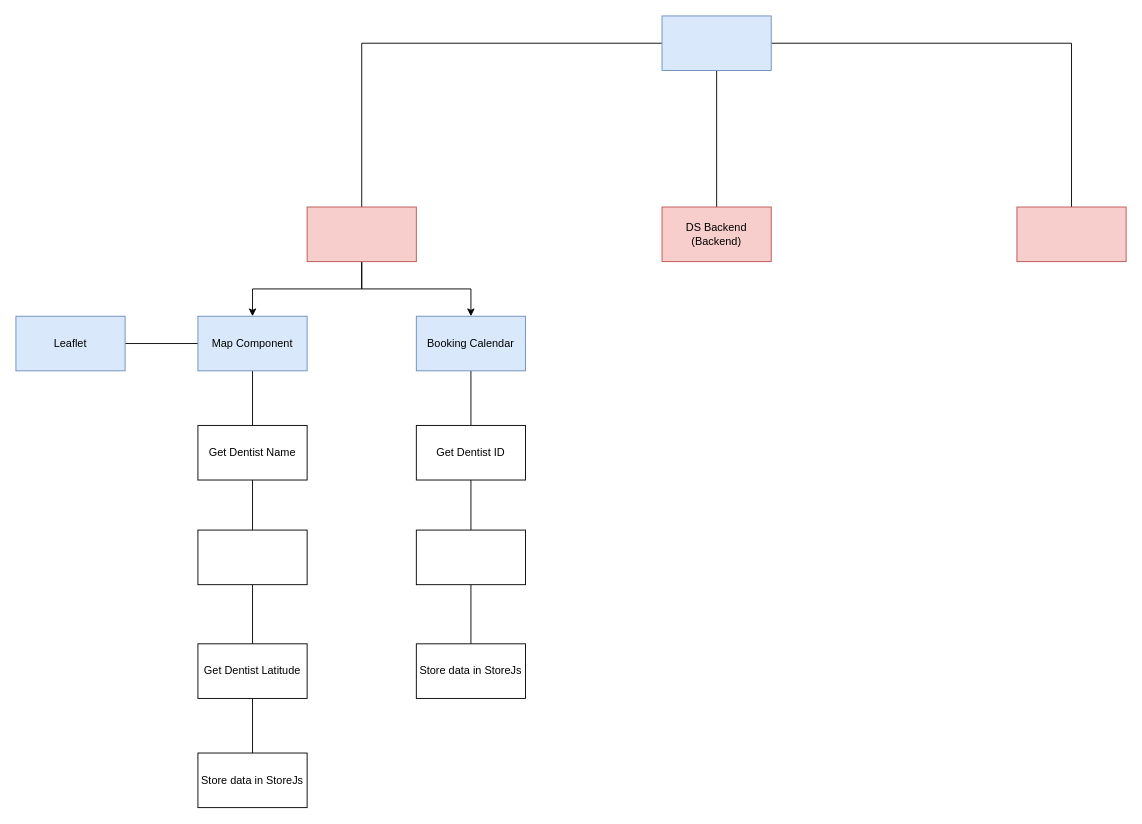
Image size: 1142x824. Some labels were removed from this diagram. Here are the shapes that lost their labels. From the top down, the centre of each, then its label:
the point at 716,43: Dentismo
the point at 361,234: WebGUI (Frontend)
the point at 252,557: Get Dentist Longitude
the point at 470,557: Get Opening Hours
